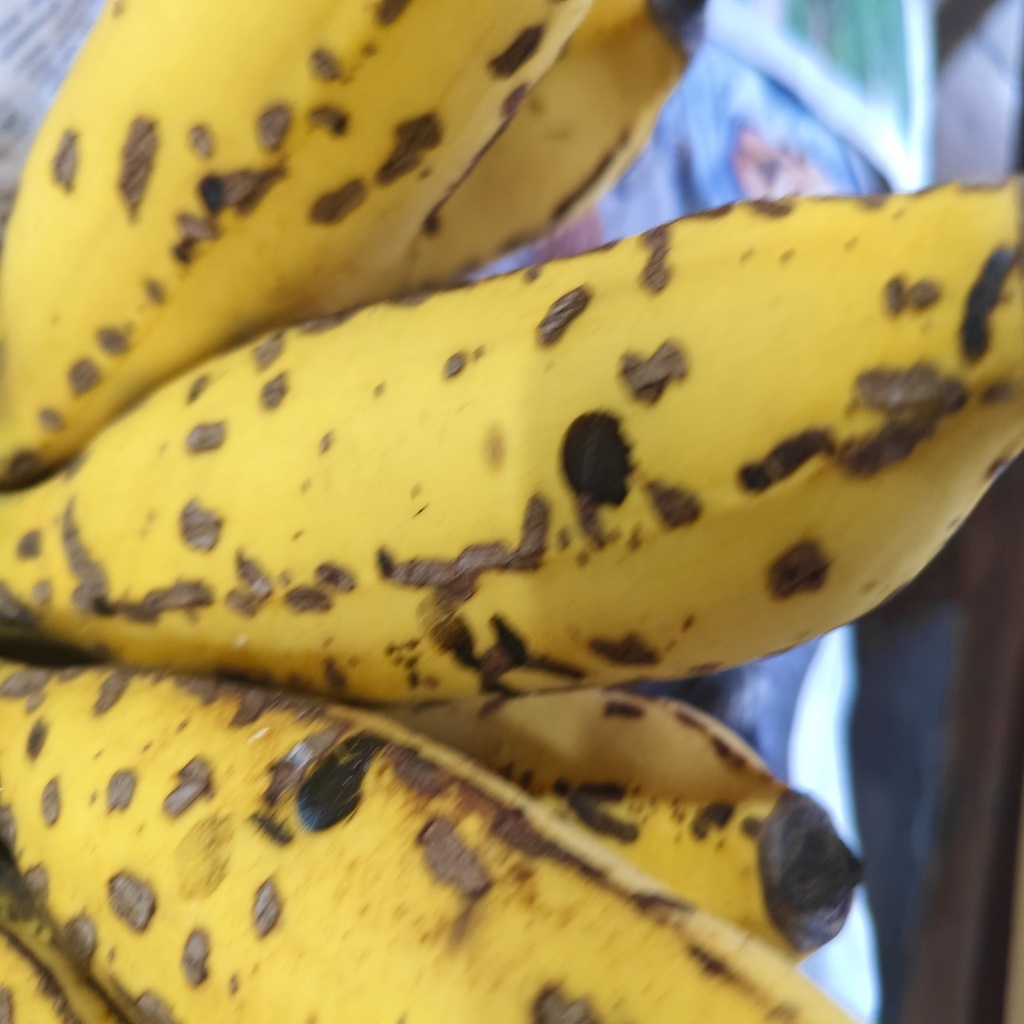unhealthy: (68, 173, 1023, 682)
